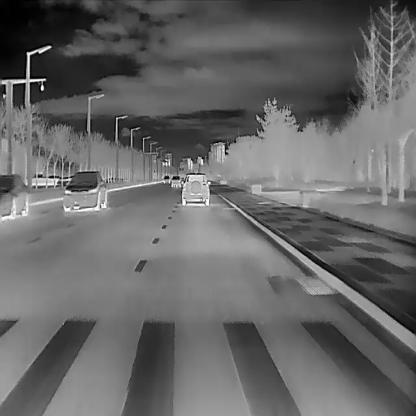car: (62, 170, 107, 210), (0, 173, 29, 220), (182, 172, 210, 206), (171, 175, 181, 187), (160, 175, 170, 183)
